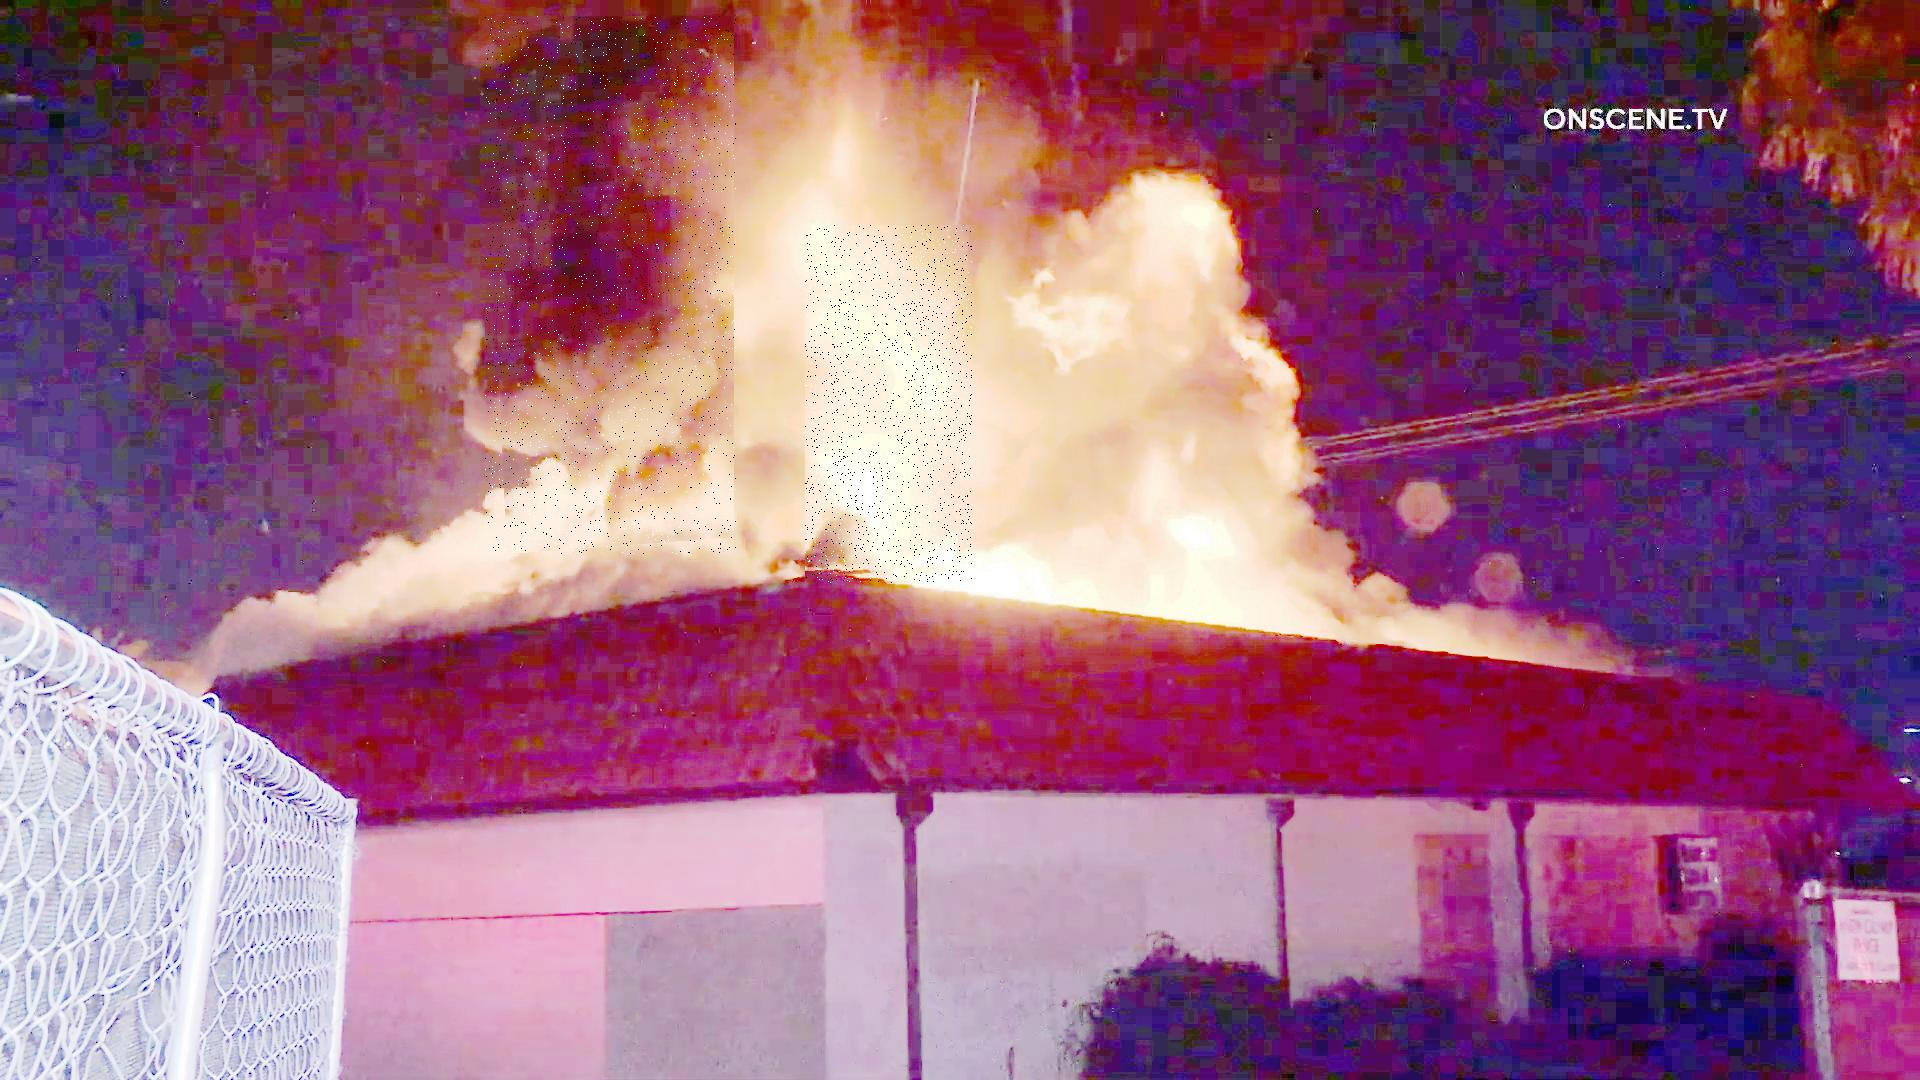fire: (806, 225, 973, 584)
smoke: (485, 16, 737, 554)
